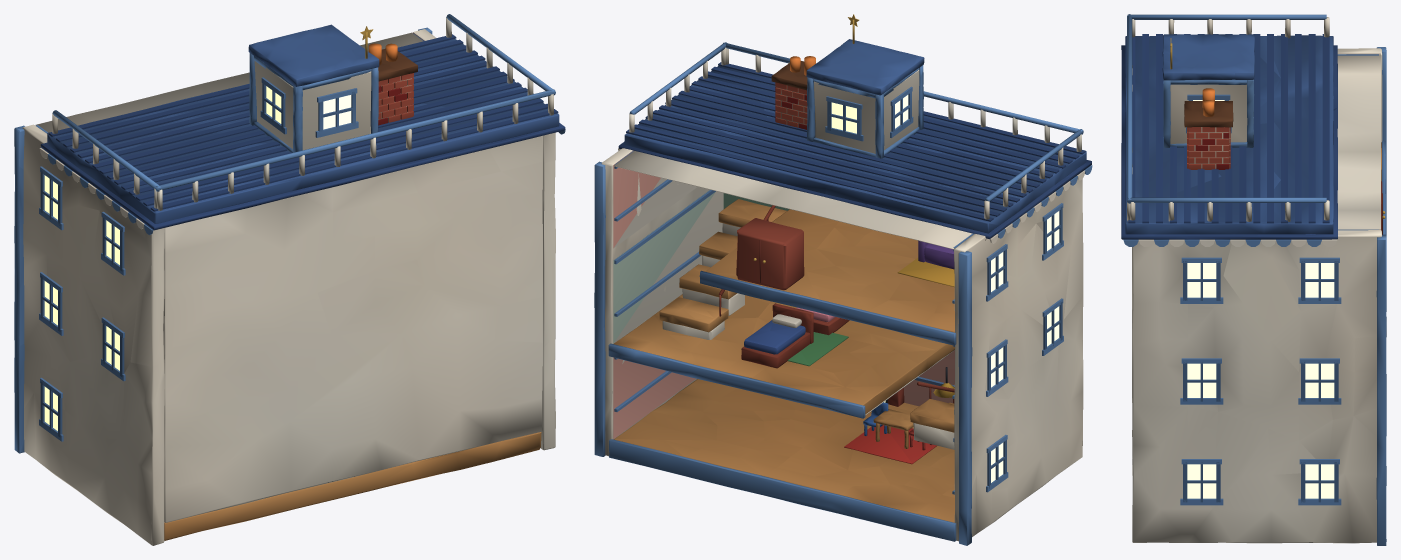
File: den_dollhouse_lod1.glb
3 views of the same model, side by side, from view 1: azimuth 30°, elevation 25°; view 2: azimuth 150°, elevation 25°; view 3: azimuth 270°, elevation 25° (orthographic). The views are drawn at different scales.
Visible parts, largest first — view 1: den_dollhouse.001; view 2: den_dollhouse.001; view 3: den_dollhouse.001.
Boxes of the visible parts, left/top/right/bottom form: den_dollhouse.001: left=14, top=14, right=565, bottom=545; den_dollhouse.001: left=594, top=14, right=1092, bottom=545; den_dollhouse.001: left=1121, top=14, right=1386, bottom=545.
Size of the model in its own units: 32.82 by 34.01 by 19.13.
